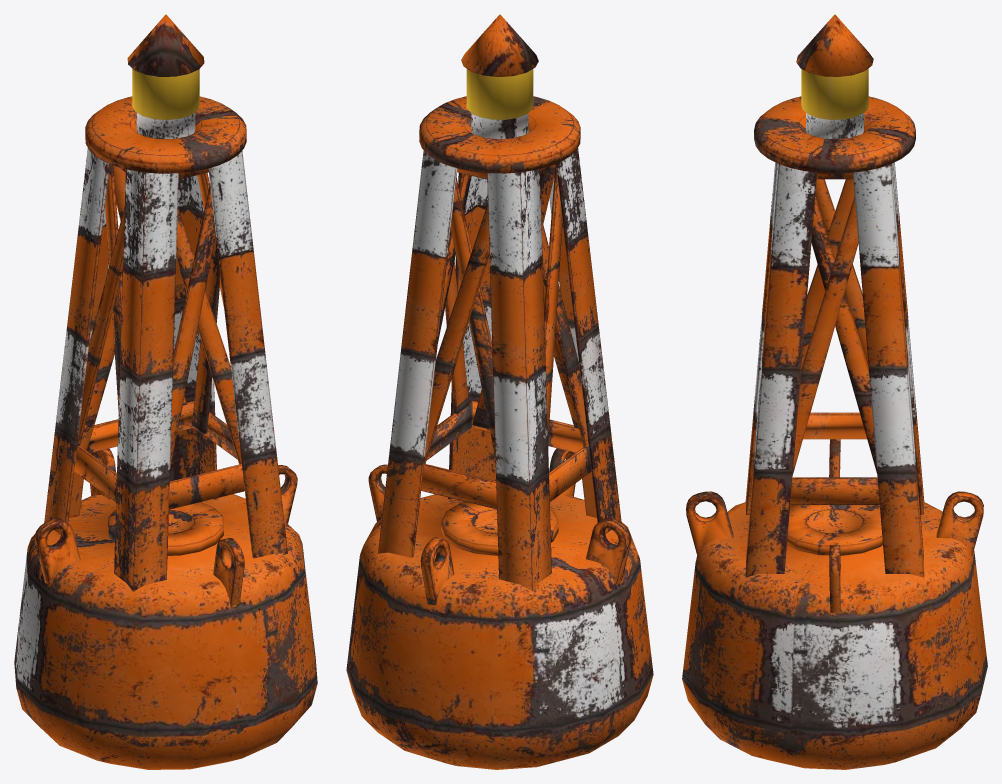
Rendered from buoy.glb.
3 views of the same model, side by side, from view 1: azimuth 30°, elevation 25°; view 2: azimuth 150°, elevation 25°; view 3: azimuth 270°, elevation 25° (orthographic).
Parts seen in each view (by area): view 1: buoy; view 2: buoy; view 3: buoy.
Part boxes in pixels (<box>): buoy: <box>14,14,317,769</box>; buoy: <box>346,14,653,769</box>; buoy: <box>682,14,987,769</box>.
Size of the model in its own units: 0.6614 by 1.71 by 0.6614.
1 material, 1 textured.
